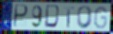9: (31, 5, 43, 29)
D: (44, 4, 62, 30)
G: (93, 6, 108, 30)
O: (76, 5, 94, 30)
P: (12, 4, 29, 29)
T: (63, 6, 75, 29)
